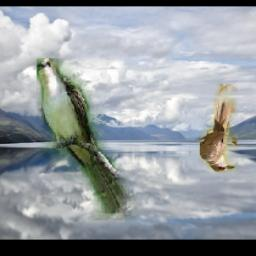Cuckoo: (38, 58, 139, 220), (199, 85, 238, 173)
